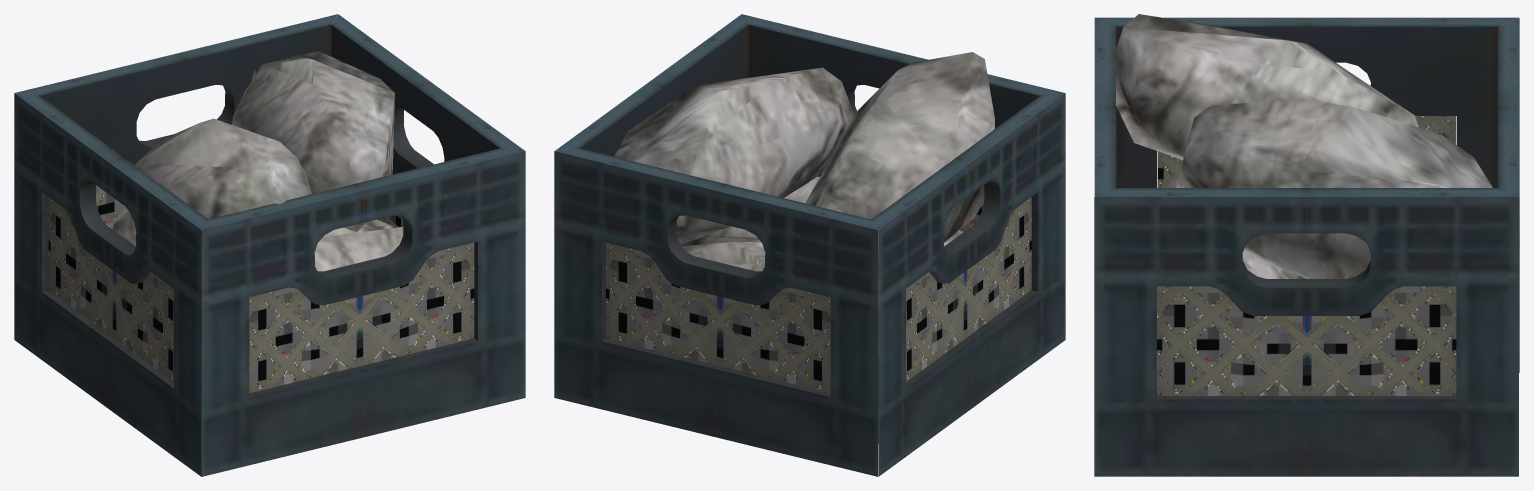
Rendered from cupboard.tool.retro.box.stone.glb.
The picture shows the model from 3 angles, left to right: view 1: azimuth 30°, elevation 25°; view 2: azimuth 150°, elevation 25°; view 3: azimuth 270°, elevation 25°; orthographic projection. The views are drawn at different scales.
Visible parts, largest first — view 1: vinyl_crate_small_LOD0, crate_contents_stone_LOD0; view 2: vinyl_crate_small_LOD0, crate_contents_stone_LOD0; view 3: vinyl_crate_small_LOD0, crate_contents_stone_LOD0.
Boxes of the visible parts, box(x1,y1,x2,y2) form: vinyl_crate_small_LOD0: box(14, 14, 525, 476); crate_contents_stone_LOD0: box(112, 51, 403, 271); vinyl_crate_small_LOD0: box(554, 14, 1065, 476); crate_contents_stone_LOD0: box(614, 52, 994, 353); vinyl_crate_small_LOD0: box(1094, 17, 1519, 476); crate_contents_stone_LOD0: box(1110, 14, 1492, 278).
Bounding box in the file's own units: 0.286 × 0.2357 × 0.2861.
Materials: 3 (3 with a texture image).
